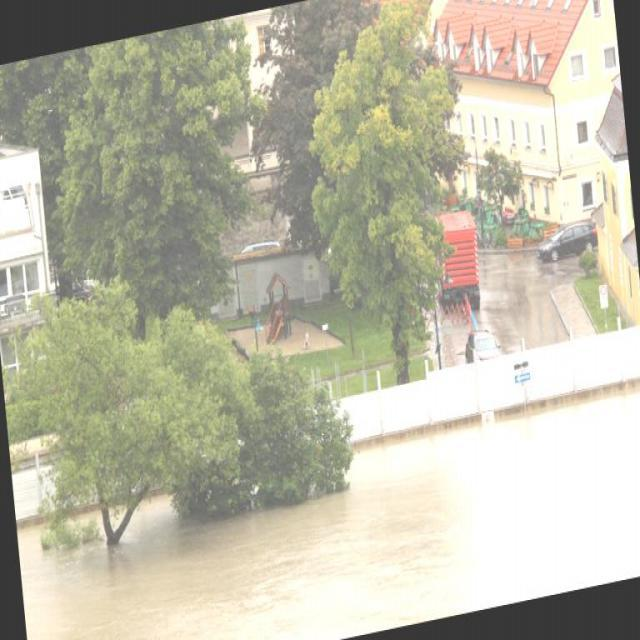flood: (14, 368, 639, 639)
